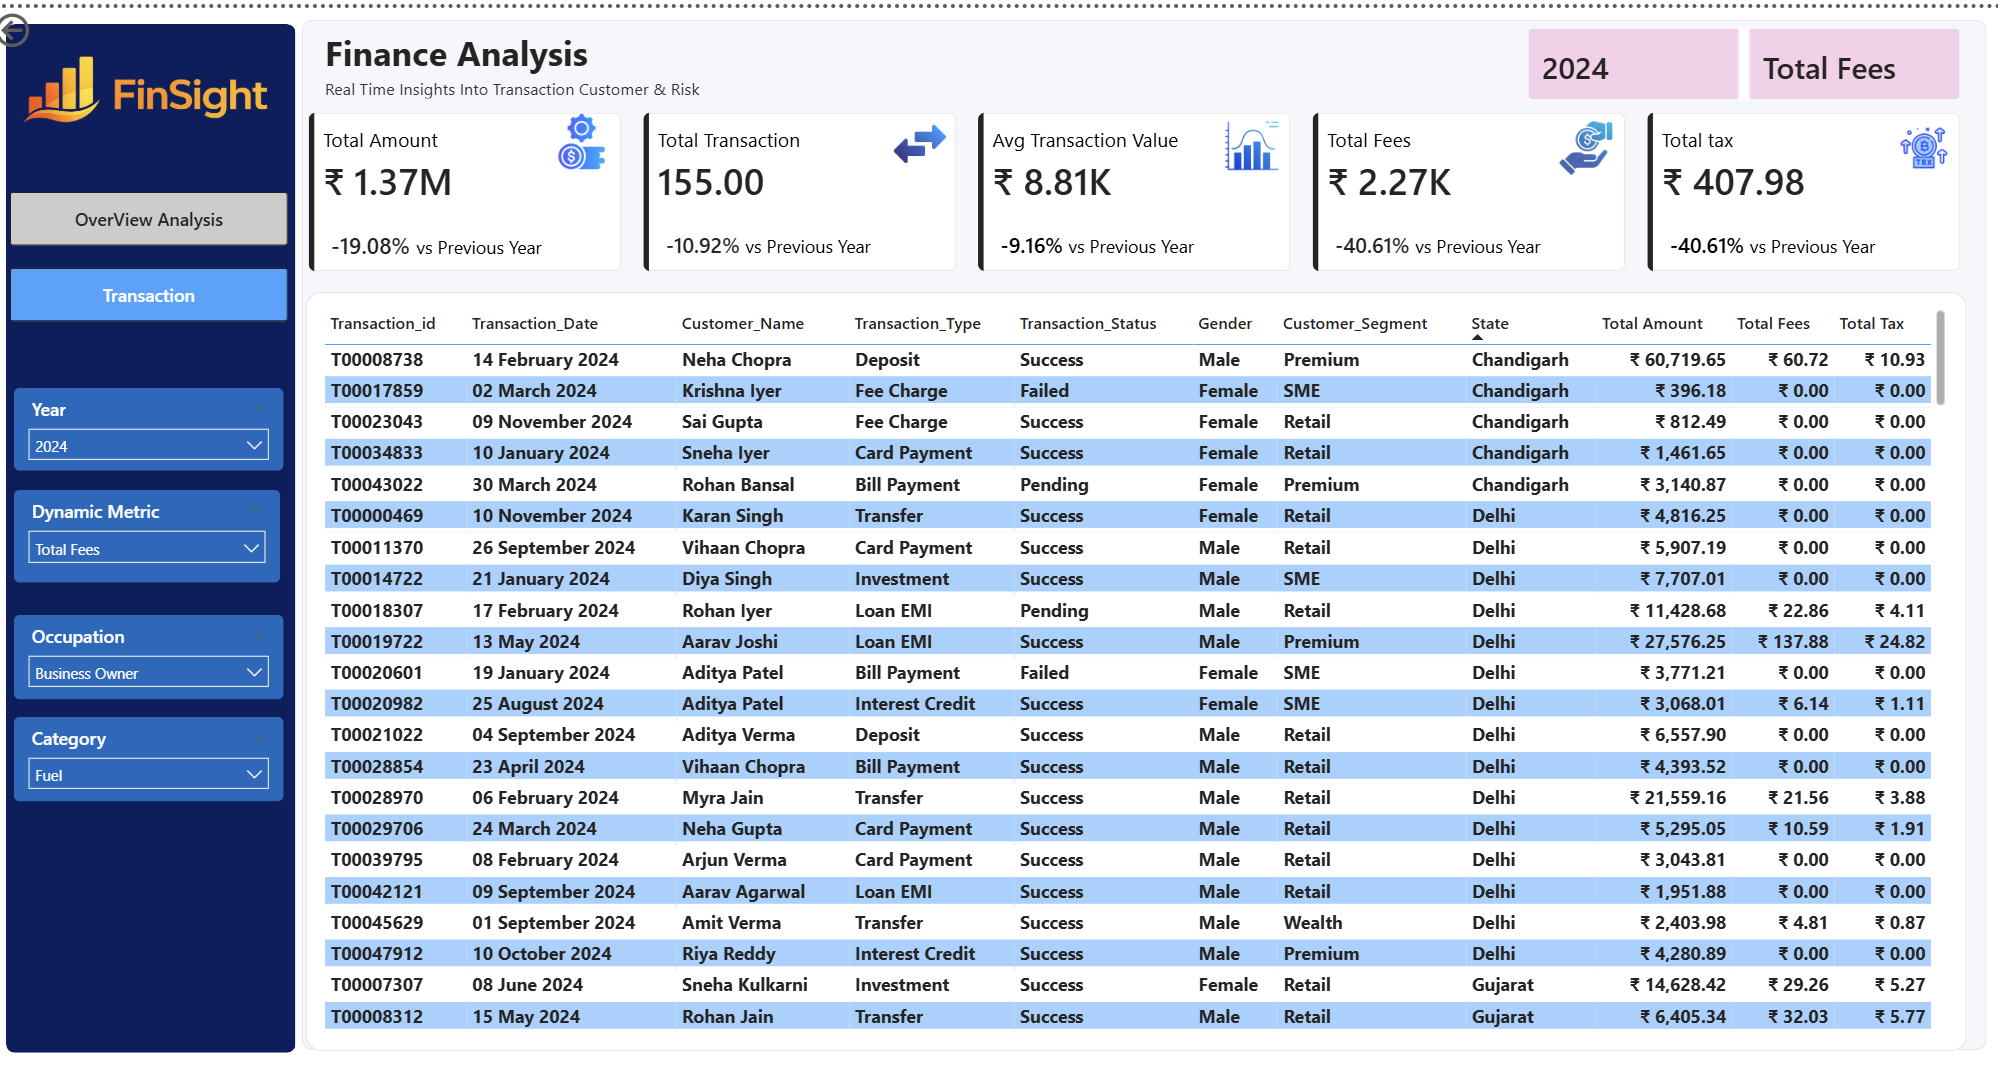

What the dashboard file says about the page in this screenshot:
{"tool":"powerbi","page":{"name":"Transaction","canvas":[1800,950],"ordinal":1},"visuals":[{"type":"shape","box":[13.6,13.6,259.6,921.4],"z":0},{"type":"shape","box":[279,11.5,1510,922.4],"z":1000},{"type":"image","box":[21.3,24.6,241.3,96.8],"z":2000},{"type":"cardVisual","fields":{"Data":["finance_transactions.Dashboard Title"]},"box":[284,13.1,382.4,75.5],"z":3000},{"type":"cardVisual","fields":{"Data":["finance_transactions.Total Amount","finance_transactions.Total Transaction","finance_transactions.Avg Transaction Value","finance_transactions.Total Fees","finance_transactions.Total tax"]},"box":[279.3,88.6,1493.8,155],"z":4000},{"type":"image","box":[505.9,95.4,49.4,49.4],"z":5000},{"type":"image","box":[809,97.1,50,50],"z":6000},{"type":"image","box":[1105.4,98.8,50,50],"z":7000},{"type":"image","box":[1405.2,100.5,50,50],"z":8000},{"type":"image","box":[1708.4,100.5,50,50],"z":9000},{"type":"cardVisual","fields":{"Data":["finance_transactions.Selected Year","finance_transactions.Selected Dynamic Measure"]},"box":[1373.8,13.1,398.8,75.5],"z":10000},{"type":"shape","box":[284,254.4,1488.7,679.5],"z":11000},{"type":"tableEx","fields":{"Values":["finance_transactions.transaction_id","finance_transactions.transaction_date","customers.Customer_Name","finance_transactions.transaction_type","finance_transactions.transaction_status","customers.gender","customers.customer_segment","customers.state","finance_transactions.Total Amount","finance_transactions.Total Fees","finance_transactions.Total tax"]},"box":[293.8,265.9,1464.1,656.5],"z":12000},{"type":"actionButton","box":[0,0,100,40],"z":13000},{"type":"slicer","fields":{"Values":["Calender Table.Year"]},"box":[21.3,339.8,241.3,73.9],"z":14000},{"type":"slicer","fields":{"Values":["Dynamic Metric.Dynamic Metric"]},"box":[22.1,432.6,238.5,81.8],"z":15000},{"type":"slicer","fields":{"Values":["customers.occupation"]},"box":[21.3,543.3,241.3,75.5],"z":16000},{"type":"slicer","fields":{"Values":["finance_transactions.merchant_category"]},"box":[21.3,635.2,241.3,75.5],"z":17000},{"type":"pageNavigator","box":[18.1,165.8,249.5,116.5],"z":18000}]}

Visuals, with their boxes on the page's 1800x950 design canvas (x1, y1, x2, y2). These are canvas units, not pixel positions in the 1998x1066 screenshot, which may show the page scaled, cropped or inside an application window:
shape: BBox(14, 14, 273, 935)
shape: BBox(279, 12, 1789, 934)
image: BBox(21, 25, 263, 121)
cardVisual - finance_transactions.Dashboard Title: BBox(284, 13, 666, 89)
cardVisual - finance_transactions.Total Amount x finance_transactions.Total Transaction: BBox(279, 89, 1773, 244)
image: BBox(506, 95, 555, 145)
image: BBox(809, 97, 859, 147)
image: BBox(1105, 99, 1155, 149)
image: BBox(1405, 100, 1455, 150)
image: BBox(1708, 100, 1758, 150)
cardVisual - finance_transactions.Selected Year x finance_transactions.Selected Dynamic Measure: BBox(1374, 13, 1773, 89)
shape: BBox(284, 254, 1773, 934)
tableEx - finance_transactions.transaction_id x finance_transactions.transaction_date: BBox(294, 266, 1758, 922)
actionButton: BBox(0, 0, 100, 40)
slicer - Calender Table.Year: BBox(21, 340, 263, 414)
slicer - Dynamic Metric.Dynamic Metric: BBox(22, 433, 261, 514)
slicer - customers.occupation: BBox(21, 543, 263, 619)
slicer - finance_transactions.merchant_category: BBox(21, 635, 263, 711)
pageNavigator: BBox(18, 166, 268, 282)
